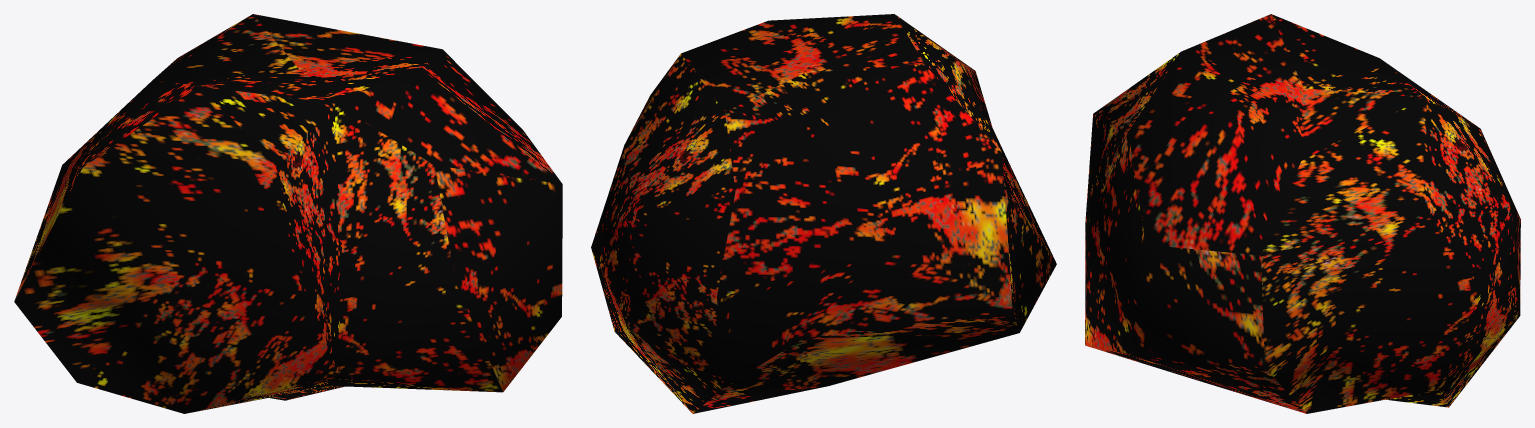
The model's file is stone2.dae.
3 views of the same model, side by side, from view 1: azimuth 30°, elevation 25°; view 2: azimuth 150°, elevation 25°; view 3: azimuth 270°, elevation 25° (orthographic). The views are drawn at different scales.
Visible parts, largest first — view 1: Sphere; view 2: Sphere; view 3: Sphere.
Part boxes in pixels (x1=…): Sphere: x1=14, y1=14, x2=562, y2=413; Sphere: x1=591, y1=14, x2=1056, y2=413; Sphere: x1=1085, y1=14, x2=1520, y2=413.
Bounding box in the file's own units: 2.51 × 2.21 × 1.82.
1 material, 1 textured.
